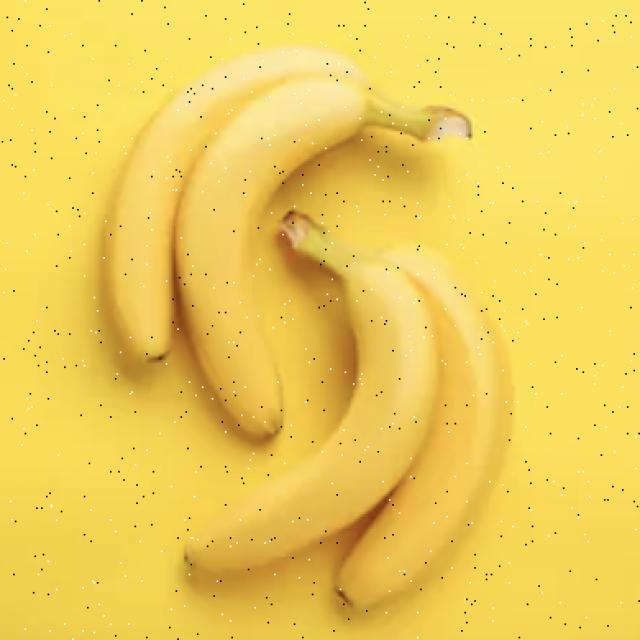banana: (59, 16, 593, 616), (235, 172, 545, 629), (95, 30, 404, 440)
